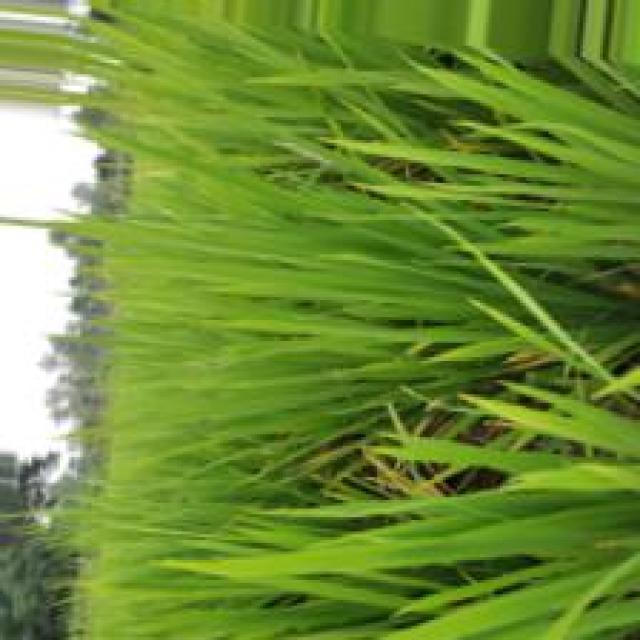HealthyLeaf: (0, 126, 640, 449), (204, 388, 640, 640), (330, 36, 635, 259)
